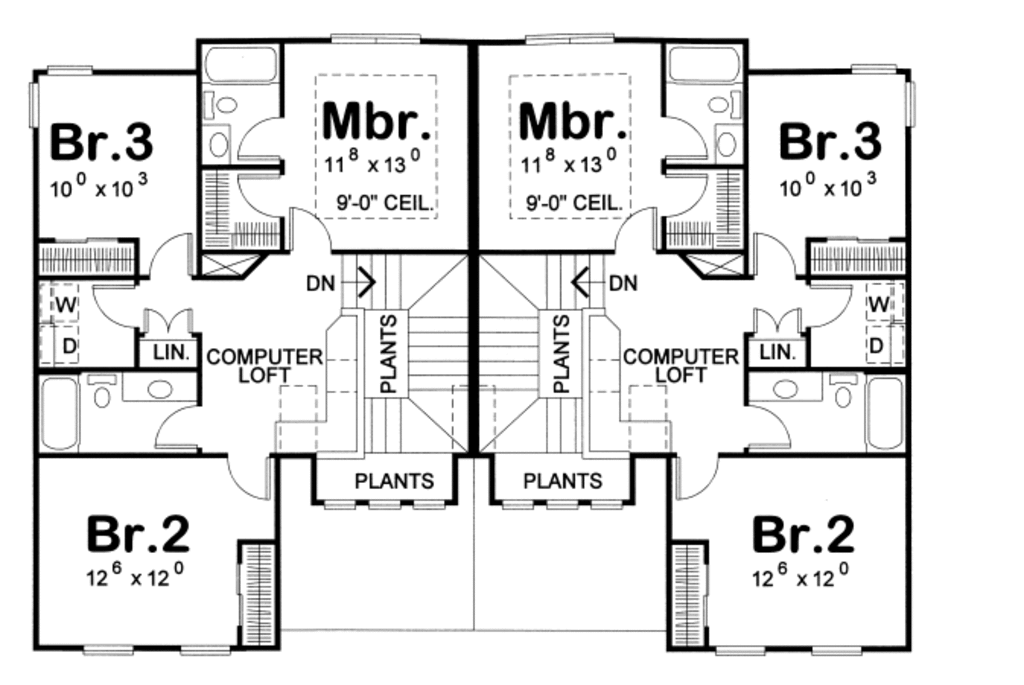door: (235, 112, 299, 167), (666, 443, 725, 500), (285, 200, 343, 257), (139, 225, 200, 279), (233, 167, 292, 222), (605, 197, 659, 257), (216, 448, 273, 503), (799, 277, 856, 332), (741, 393, 793, 451), (87, 276, 138, 333), (750, 231, 801, 280), (152, 401, 201, 451), (659, 173, 708, 219), (663, 110, 707, 160), (136, 303, 196, 338), (749, 307, 808, 334)
large_sink: (199, 88, 249, 124), (80, 372, 121, 413), (705, 86, 747, 121), (828, 372, 861, 410)
small_sink: (746, 365, 829, 400), (205, 122, 230, 167), (718, 124, 743, 164)
stairs: (270, 253, 471, 453), (474, 243, 635, 453)
tub: (660, 43, 748, 86), (195, 40, 281, 82), (863, 374, 906, 457), (38, 374, 79, 455)
window: (524, 32, 616, 50), (326, 30, 421, 47), (806, 639, 864, 660), (543, 493, 586, 520), (702, 640, 768, 657), (313, 492, 363, 514), (496, 491, 537, 517), (851, 57, 901, 78), (45, 60, 93, 79), (408, 491, 446, 515), (25, 82, 43, 131), (361, 491, 403, 512), (905, 79, 920, 131), (587, 495, 620, 517), (175, 644, 235, 654), (80, 644, 136, 653)
